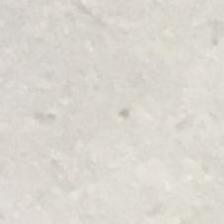Non_Crack: (24, 32, 204, 183)
